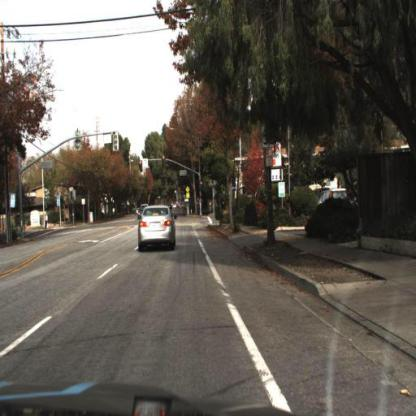car: (139, 203, 176, 252), (315, 186, 354, 212), (318, 187, 349, 210)
pedestrian: (43, 206, 51, 238)
trafficLight: (138, 157, 145, 177)
trafficLight-Red: (198, 176, 206, 197), (161, 153, 168, 174), (199, 177, 205, 192)
